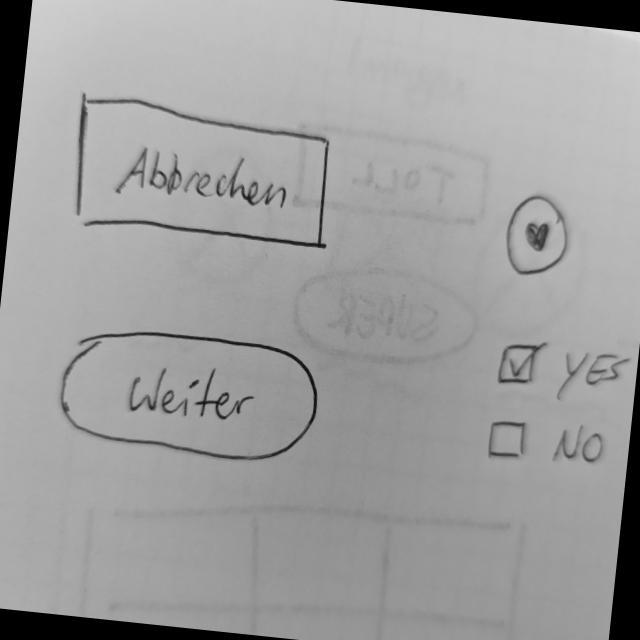button: (62, 90, 338, 258), (55, 318, 327, 471)
checkbox: (494, 333, 630, 406), (483, 408, 608, 475)
icon-button: (500, 188, 574, 284)
